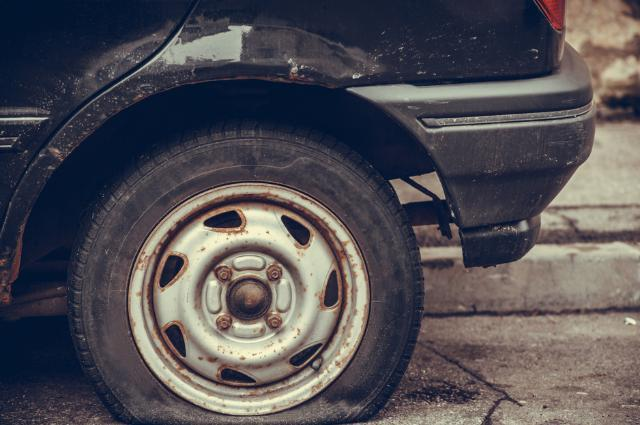Fender: (220, 7, 429, 83)
